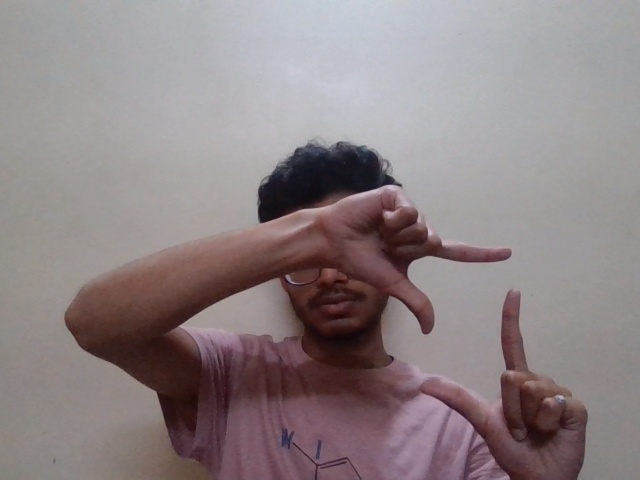video: (336, 175, 598, 459)
